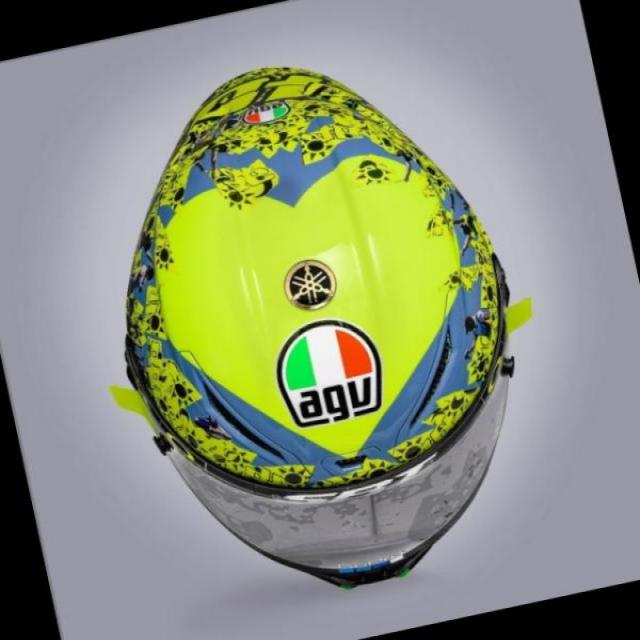Helmet: (132, 94, 542, 589)
